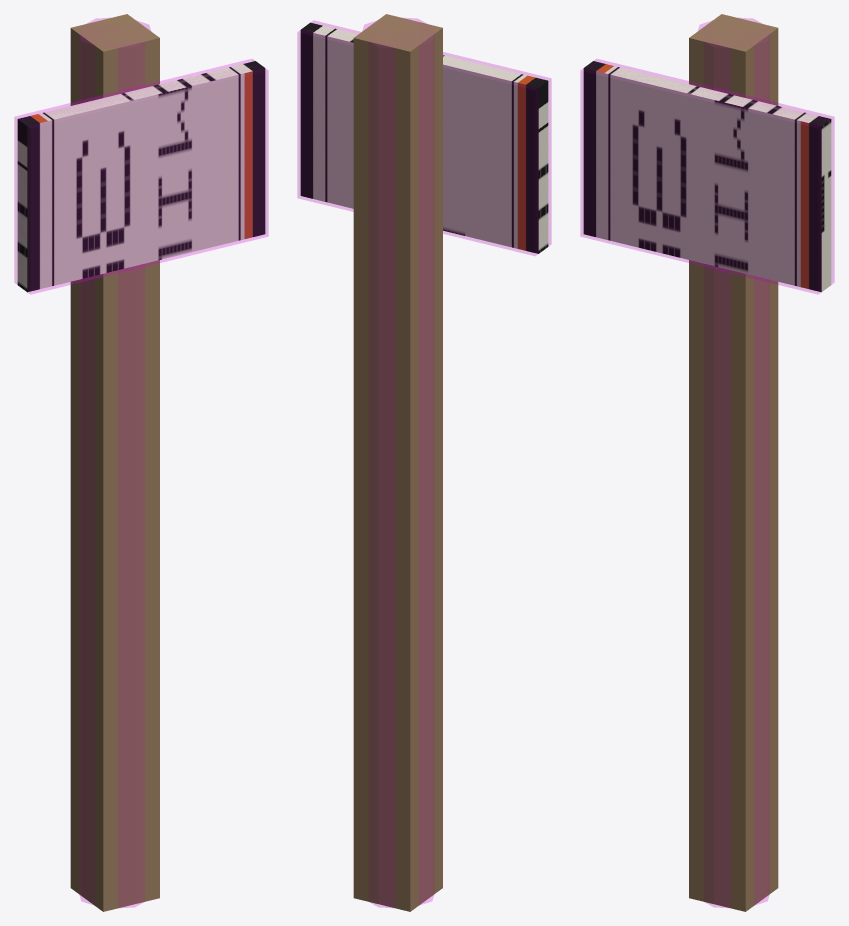
Rendered from milemarker_038.dae.
3 renders of one model, left to right at view 1: azimuth 30°, elevation 25°; view 2: azimuth 150°, elevation 25°; view 3: azimuth 330°, elevation 25°, orthographic.
Parts seen in each view (by area): view 1: post, sign, Colmesh_sign-1, Colmesh_post-1; view 2: post, Colmesh_post-1, sign, Colmesh_sign-1; view 3: post, sign, Colmesh_sign-1, Colmesh_post-1.
Boxes of the visible parts, x1,y1,x2,y2 form: post: (70, 14, 159, 911); sign: (17, 61, 265, 292); Colmesh_sign-1: (14, 59, 268, 294); Colmesh_post-1: (79, 18, 150, 907); post: (353, 14, 442, 911); Colmesh_post-1: (362, 18, 433, 907); sign: (300, 22, 548, 253); Colmesh_sign-1: (297, 20, 551, 255); post: (689, 14, 778, 911); sign: (583, 61, 831, 292); Colmesh_sign-1: (580, 59, 834, 294); Colmesh_post-1: (698, 18, 769, 907).
Bounding box in the file's own units: 0.42 × 0.165 × 1.45.
Materials: 3 (1 with a texture image).
